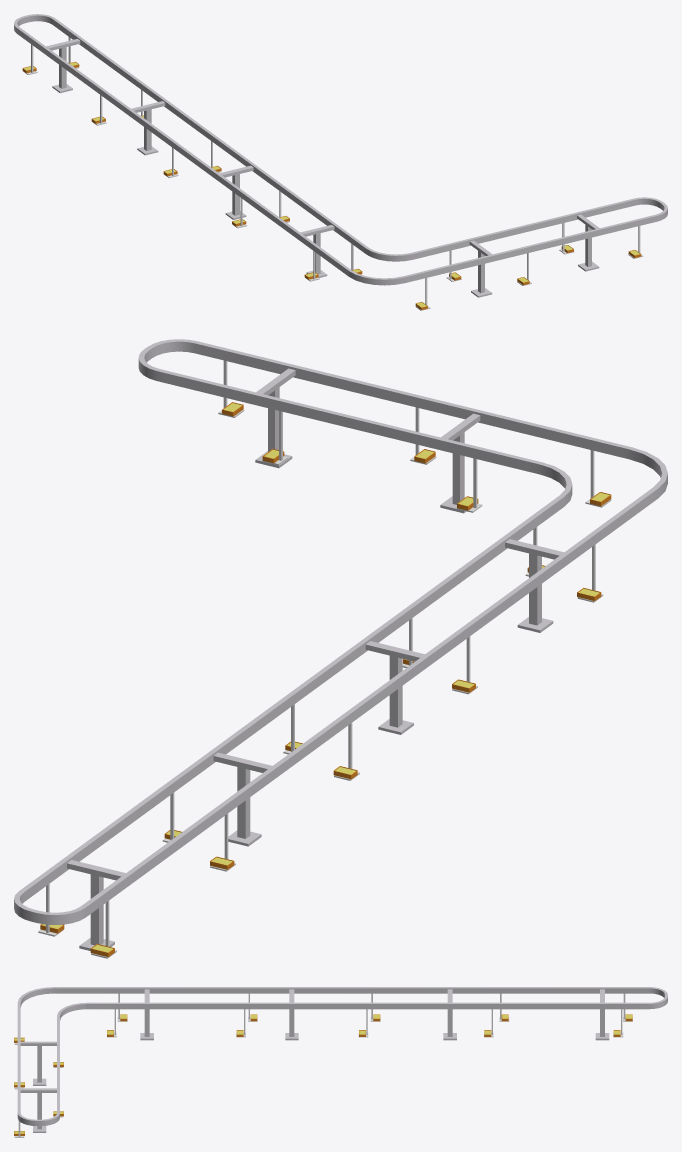
File: suodao.glb
3 views of the same model, one above another, from view 1: azimuth 30°, elevation 25°; view 2: azimuth 150°, elevation 25°; view 3: azimuth 270°, elevation 25° (orthographic). The views are drawn at different scales.
Visible parts, largest first — view 1: suodao.016, suodao; view 2: suodao.016, suodao; view 3: suodao.016, suodao.
Boxes of the visible parts, <box> form: suodao.016: <box>14,14,667,297</box>; suodao: <box>23,37,643,310</box>; suodao.016: <box>14,339,667,950</box>; suodao: <box>38,360,611,958</box>; suodao.016: <box>17,987,667,1132</box>; suodao: <box>14,993,632,1137</box>.
Bounding box in the file's own units: 65.21 × 9.35 × 133.
